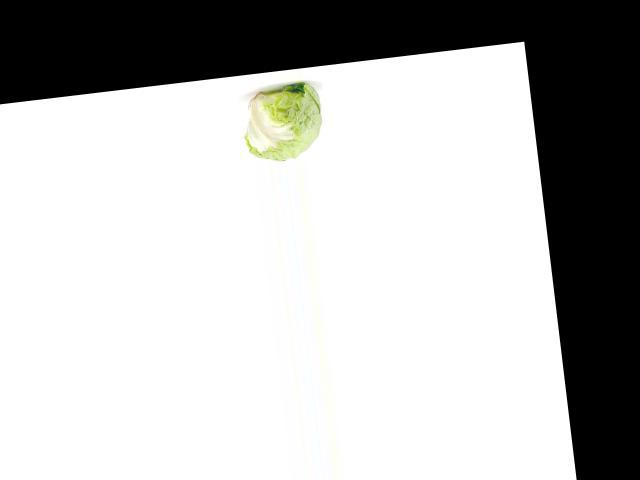lettuce: (236, 76, 328, 165)
